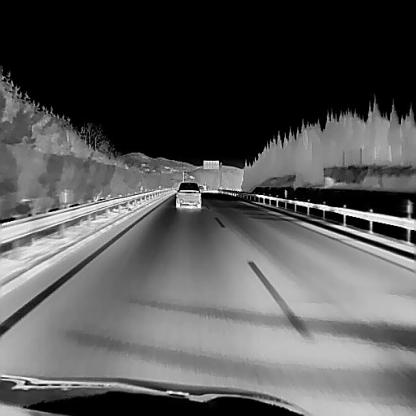car: (174, 180, 201, 209)
